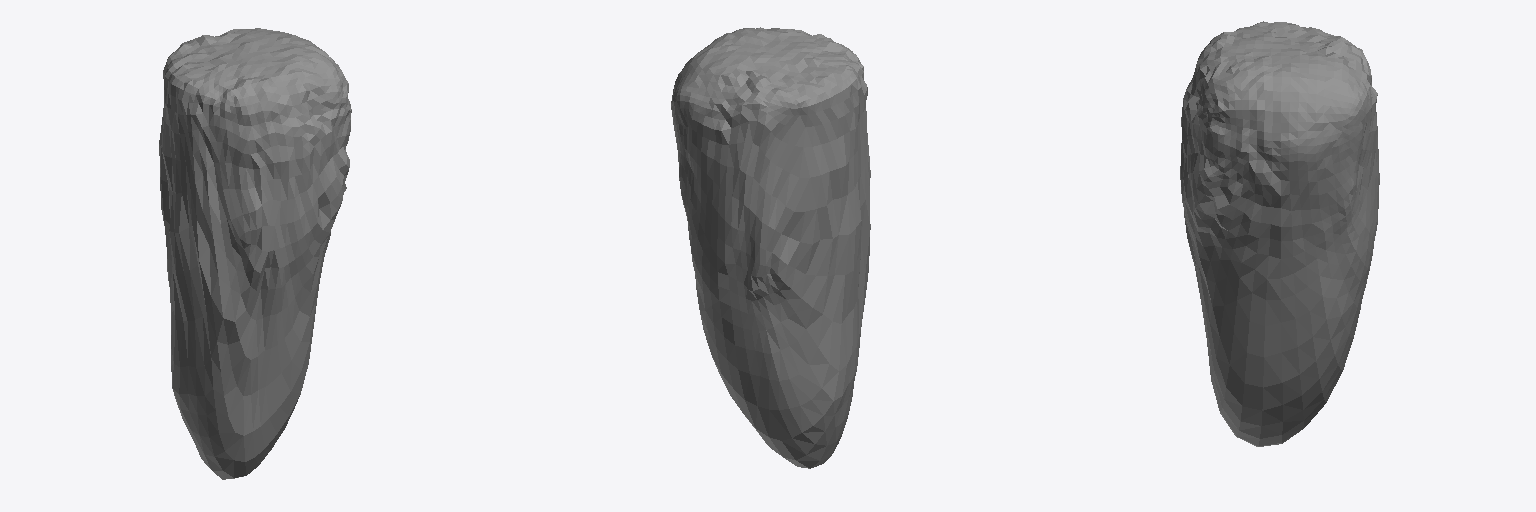
Rendered from rock0.obj.
3 renders of one model, left to right at view 1: azimuth 30°, elevation 25°; view 2: azimuth 150°, elevation 25°; view 3: azimuth 270°, elevation 25°, orthographic.
Visible parts, largest first — view 1: rock_02; view 2: rock_02; view 3: rock_02.
Part boxes in pixels (x1,y1,x2,y2): rock_02: (159, 28, 351, 479); rock_02: (671, 27, 870, 468); rock_02: (1180, 21, 1379, 446).
Bounding box in the file's own units: 10.61 × 24.56 × 10.75.